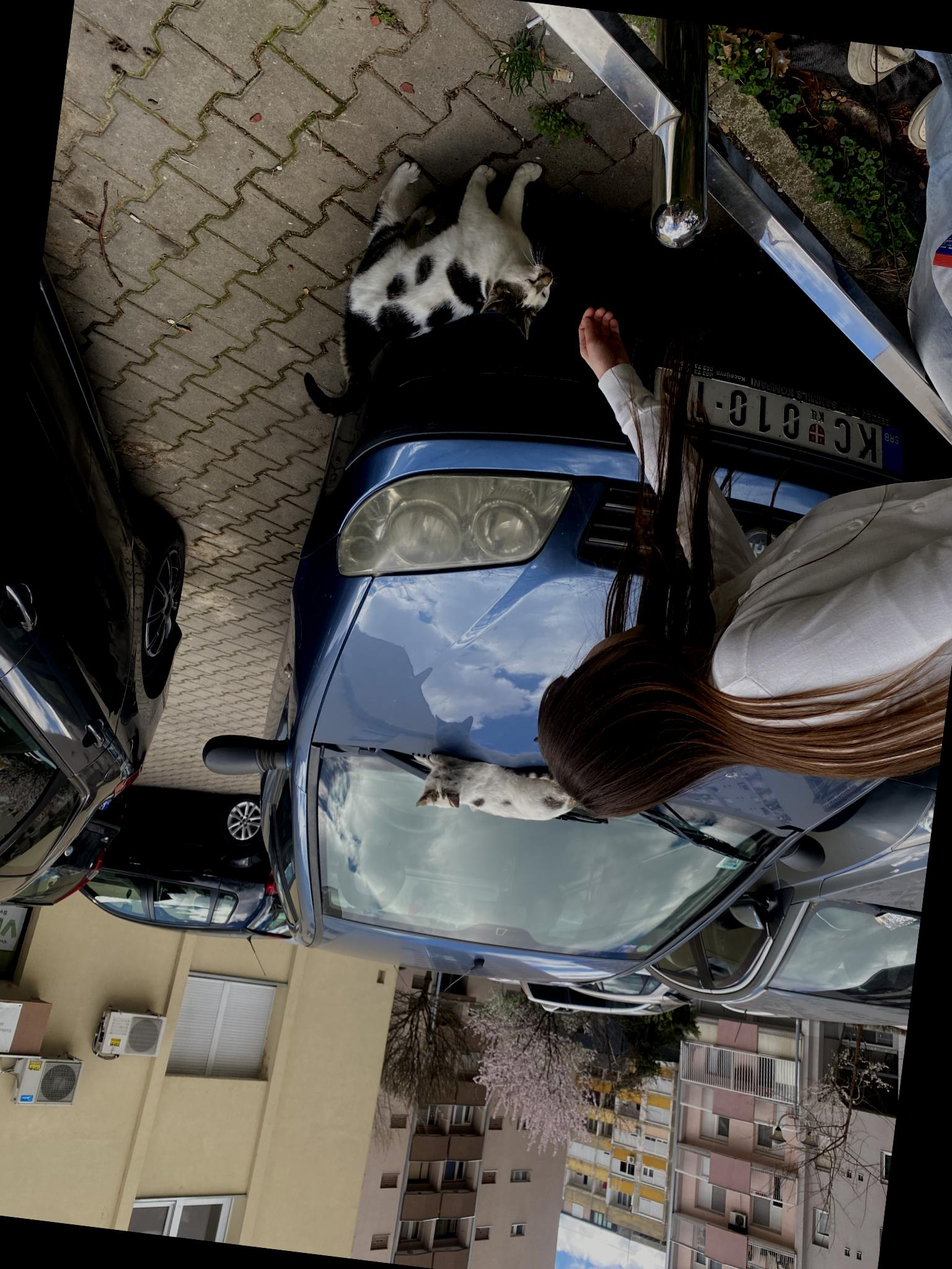macka: (296, 135, 571, 441), (409, 751, 582, 826)
